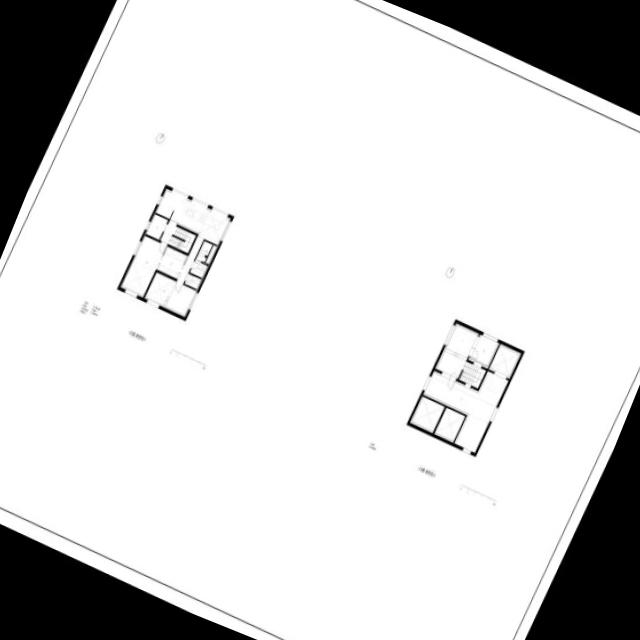background: (0, 0, 640, 640)
space_bedroom: (120, 235, 166, 297), (144, 272, 196, 317), (444, 323, 478, 358)
space_dressroom: (157, 246, 187, 279), (189, 260, 208, 278)
space_kitchen: (155, 188, 230, 245)
space_multipurpose_space: (145, 214, 167, 240)
space_other: (422, 371, 508, 453), (409, 396, 444, 433), (177, 236, 203, 283), (488, 344, 521, 379), (433, 407, 465, 443), (468, 334, 499, 368), (434, 350, 466, 379), (205, 245, 217, 264)
space_staircase: (160, 222, 195, 253), (458, 361, 486, 388)
space_toilet: (196, 241, 212, 262), (184, 273, 202, 290)
